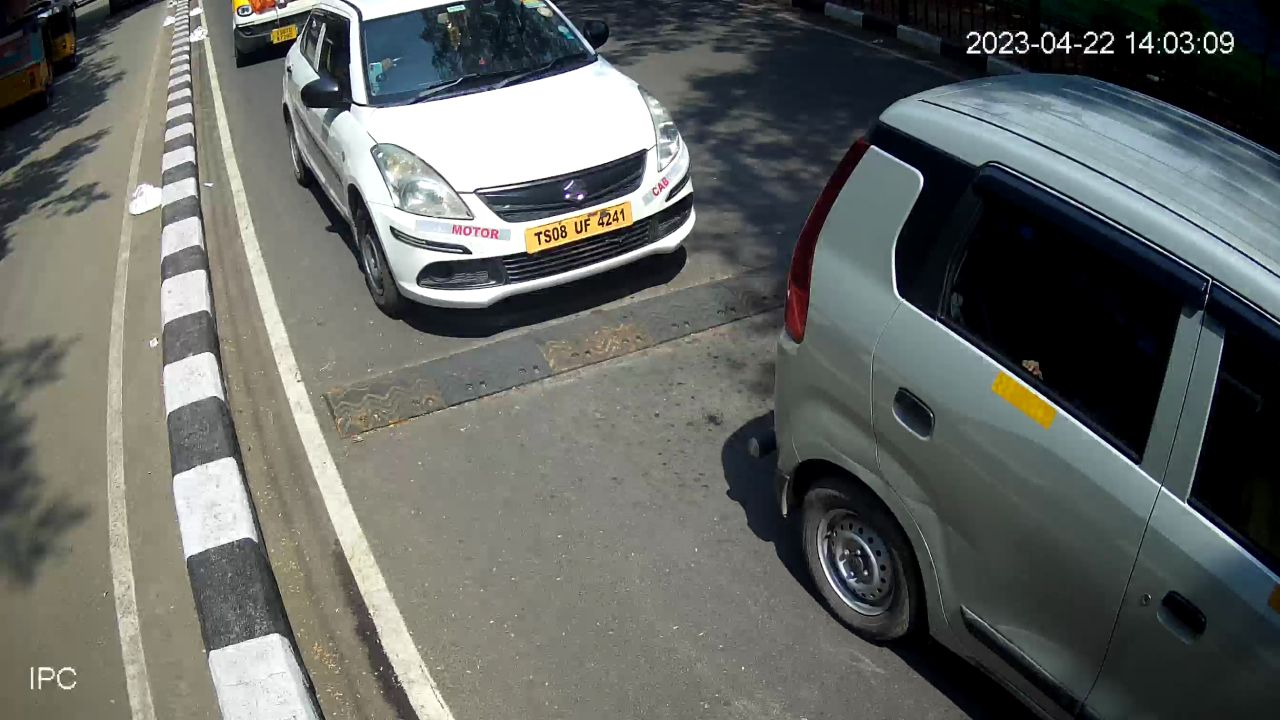license_plate: (520, 195, 636, 258)
